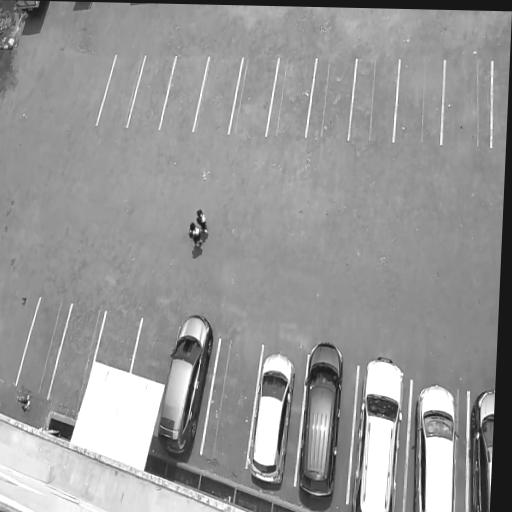Car: (154, 312, 216, 461), (350, 352, 407, 512), (294, 339, 347, 506), (247, 347, 298, 489), (412, 375, 461, 512), (469, 386, 495, 512)
Space Available: (201, 341, 262, 466), (49, 304, 105, 405), (17, 298, 71, 400), (443, 60, 491, 147), (395, 59, 444, 144), (307, 58, 355, 142), (349, 60, 398, 141), (193, 57, 242, 136), (159, 56, 209, 132), (230, 58, 278, 136), (267, 59, 316, 135), (127, 56, 175, 129), (97, 54, 145, 127), (131, 321, 180, 384), (96, 312, 141, 372), (492, 61, 510, 149)
